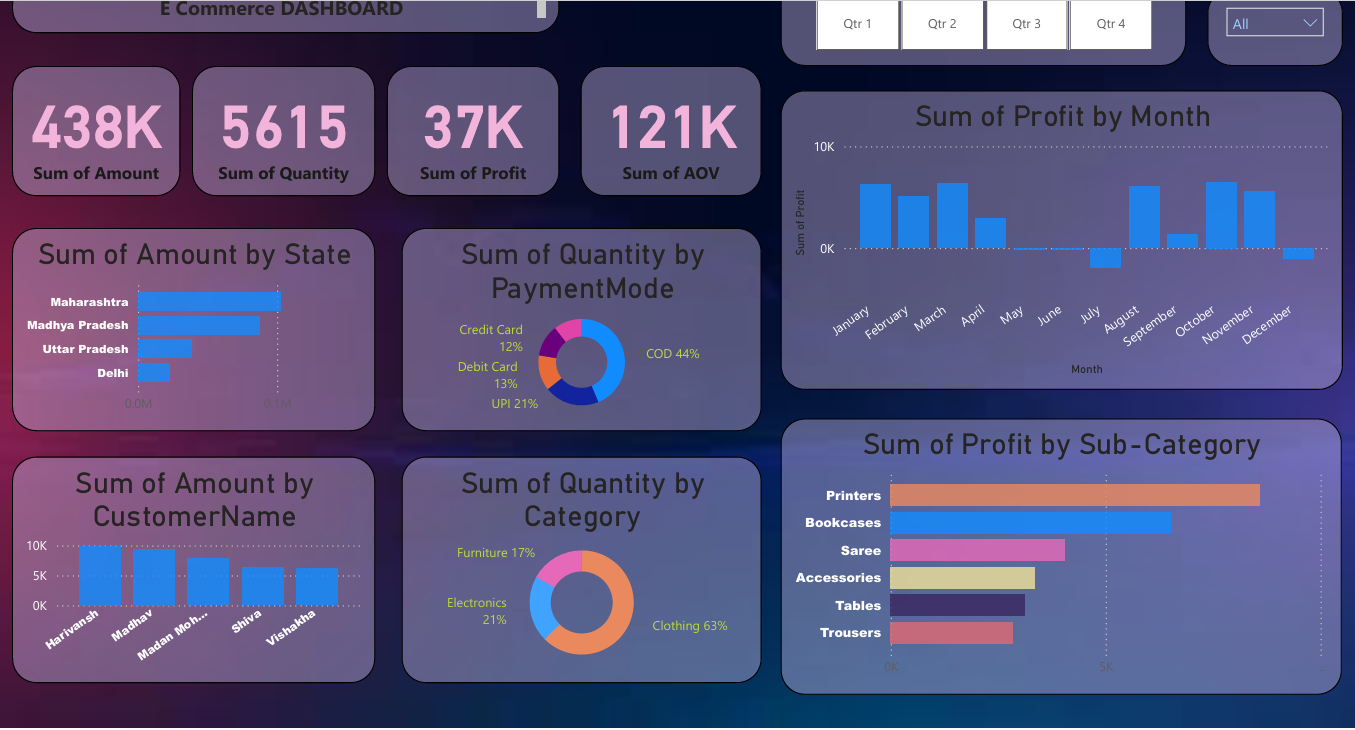

Layout of this report page (visuals, bound fields, positions):
{"tool":"powerbi","page":{"name":"Page 1","canvas":[1280,720],"ordinal":0},"visuals":[{"type":"columnChart","fields":{"Category":["Orders.Order Date.Variation.Date Hierarchy.Month"],"Y":["Details.Profit"]},"box":[736.9,118,531,282.7],"z":0},{"type":"barChart","fields":{"Category":["Details.Sub-Category"],"Y":["Details.Profit"]},"box":[736.9,428.1,529.7,260.7],"z":1000},{"type":"donutChart","fields":{"Category":["Details.Category"],"Y":["Details.Quantity"]},"box":[378.7,463.8,340.3,214.1],"z":2000},{"type":"donutChart","fields":{"Category":["Details.PaymentMode"],"Y":["Details.Quantity"]},"box":[378.7,248.4,340.3,192.1],"z":3000},{"type":"card","fields":{"Values":["Details.Amount"]},"box":[11,94.7,159.2,123.5],"z":4000},{"type":"card","fields":{"Values":["Details.Quantity"]},"box":[181.1,94.7,172.9,123.5],"z":5000},{"type":"card","fields":{"Values":["Details.Profit"]},"box":[365,94.7,163.3,123.5],"z":6000},{"type":"card","fields":{"Values":["Details.AOV"]},"box":[547.5,94.7,171.5,123.5],"z":7000},{"type":"barChart","fields":{"Category":["Orders.State"],"Y":["Details.Amount"]},"box":[11,248.4,343.1,192.1],"z":8000},{"type":"columnChart","fields":{"Category":["Orders.CustomerName"],"Y":["Details.Amount"]},"box":[11,463.8,343.1,214.1],"z":9000},{"type":"slicer","fields":{"Values":["Orders.Order Date.Variation.Date Hierarchy.Quarter"]},"box":[736.9,12.3,382.8,82.3],"z":10000},{"type":"slicer","fields":{"Values":["Orders.State"]},"box":[1140.3,22,127.6,72.7],"z":11000},{"type":"textbox","box":[11,13.7,517.3,50.8],"z":12000}]}

Visuals, with their boxes on the page's 1280x720 design canvas (x1, y1, x2, y2). These are canvas units, not pixel positions in the 1355x730 screenshot, which may show the page scaled, cropped or inside an application window:
columnChart - Orders.Order Date.Variation.Date Hierarchy.Month x Details.Profit: {"x1": 737, "y1": 118, "x2": 1268, "y2": 401}
barChart - Details.Sub-Category x Details.Profit: {"x1": 737, "y1": 428, "x2": 1267, "y2": 689}
donutChart - Details.Category x Details.Quantity: {"x1": 379, "y1": 464, "x2": 719, "y2": 678}
donutChart - Details.PaymentMode x Details.Quantity: {"x1": 379, "y1": 248, "x2": 719, "y2": 440}
card - Details.Amount: {"x1": 11, "y1": 95, "x2": 170, "y2": 218}
card - Details.Quantity: {"x1": 181, "y1": 95, "x2": 354, "y2": 218}
card - Details.Profit: {"x1": 365, "y1": 95, "x2": 528, "y2": 218}
card - Details.AOV: {"x1": 548, "y1": 95, "x2": 719, "y2": 218}
barChart - Orders.State x Details.Amount: {"x1": 11, "y1": 248, "x2": 354, "y2": 440}
columnChart - Orders.CustomerName x Details.Amount: {"x1": 11, "y1": 464, "x2": 354, "y2": 678}
slicer - Orders.Order Date.Variation.Date Hierarchy.Quarter: {"x1": 737, "y1": 12, "x2": 1120, "y2": 95}
slicer - Orders.State: {"x1": 1140, "y1": 22, "x2": 1268, "y2": 95}
textbox: {"x1": 11, "y1": 14, "x2": 528, "y2": 64}
